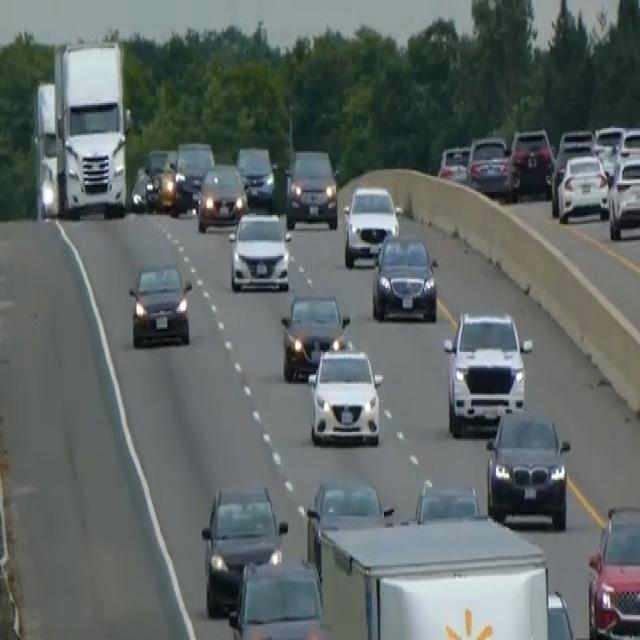car: (200, 482, 288, 615), (443, 308, 532, 436), (485, 405, 570, 530), (305, 476, 392, 578), (227, 556, 328, 638), (307, 340, 383, 446), (586, 503, 639, 638), (279, 290, 350, 382), (371, 231, 438, 322), (128, 262, 192, 348), (228, 208, 291, 292), (342, 183, 399, 267), (283, 148, 338, 230), (554, 151, 609, 222), (196, 160, 247, 231), (508, 126, 554, 198), (550, 126, 594, 199), (412, 477, 481, 522), (173, 138, 214, 212), (466, 134, 511, 198), (608, 151, 639, 240), (235, 144, 275, 206), (142, 148, 172, 210), (546, 588, 576, 638), (437, 142, 470, 185), (556, 126, 594, 162), (593, 123, 624, 158), (129, 164, 151, 212), (617, 125, 639, 158)
lorry: (31, 38, 131, 220)
